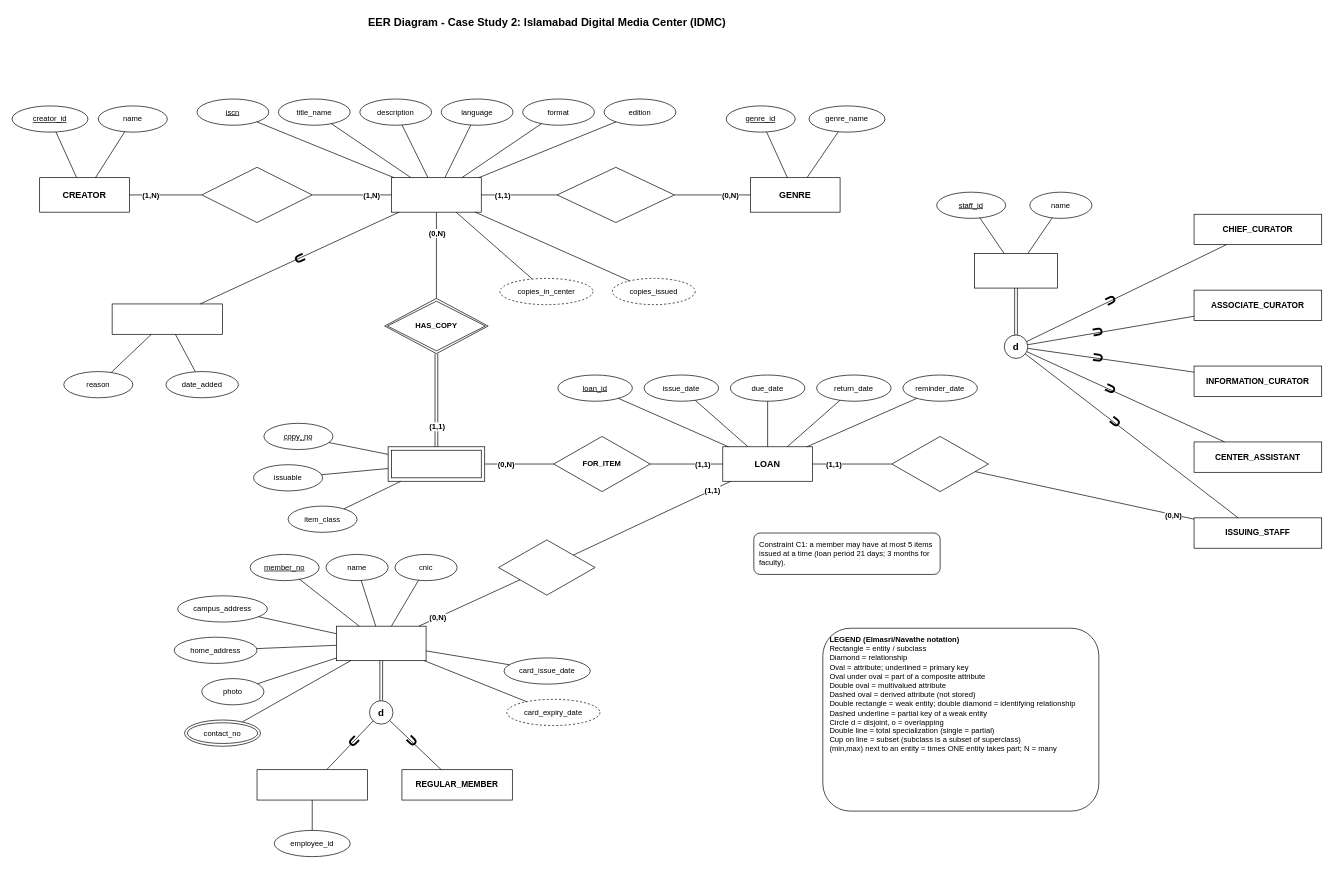
The diagram is 1334 pixels wide and 869 high, and some of its shapes have lost their labels. The shapes that lost their labels are listed below. From the top down, each one's centre as x and y in pixels, then its label:
[256,195]: CREATED_BY
[436,194]: TITLE
[615,195]: CLASSIFIED_AS
[1015,270]: STAFF
[167,318]: WISHLIST_TITLE
[436,463]: ITEM
[939,464]: ISSUES
[546,567]: MAKES
[381,643]: MEMBER
[311,784]: FACULTY_MEMBER
